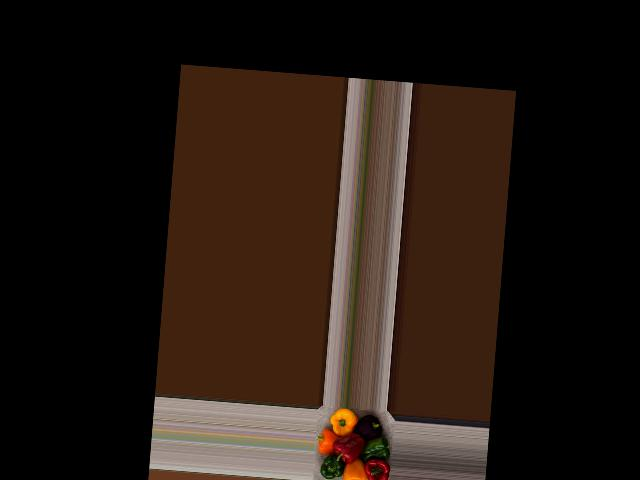bell_pepper: (353, 414, 390, 447)
